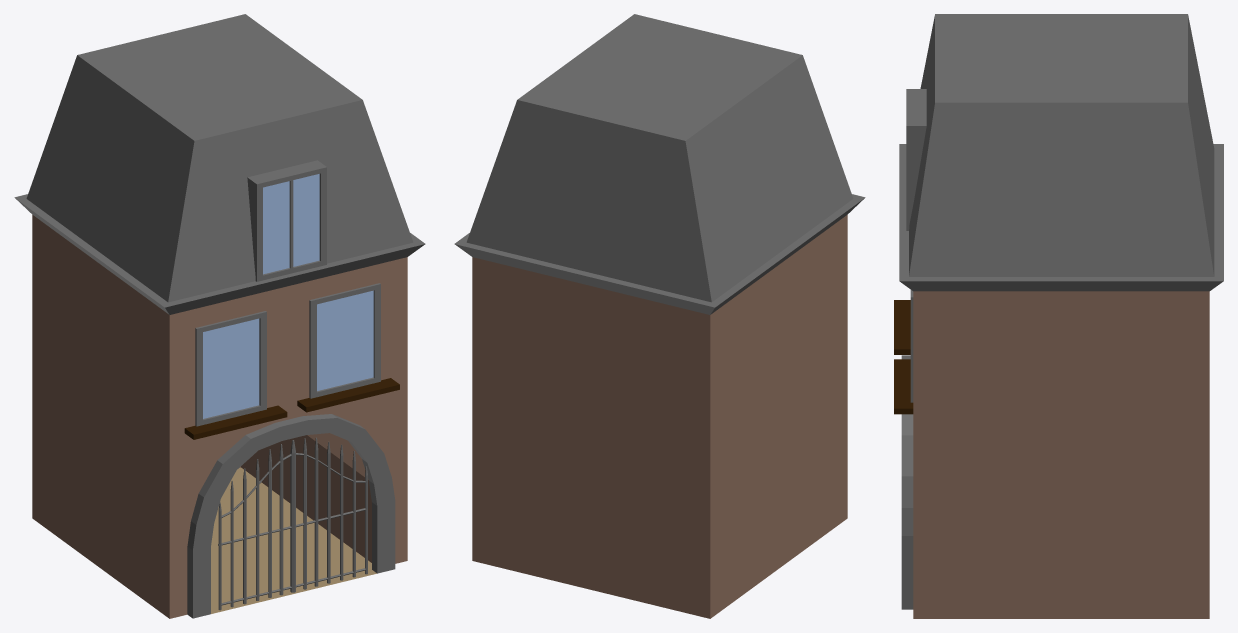
File: House4Lvl3.fbx
3 renders of one model, left to right at view 1: azimuth 30°, elevation 25°; view 2: azimuth 150°, elevation 25°; view 3: azimuth 270°, elevation 25°, orthographic. The views are drawn at different scales.
Visible parts, largest first — view 1: House4Lvl3; view 2: House4Lvl3; view 3: House4Lvl3.
Boxes of the visible parts, x1,y1,x2,y2 form: House4Lvl3: (14, 14, 425, 618); House4Lvl3: (454, 14, 865, 618); House4Lvl3: (894, 14, 1223, 618).
Bounding box in the file's own units: 76.54 × 130 × 77.75.
